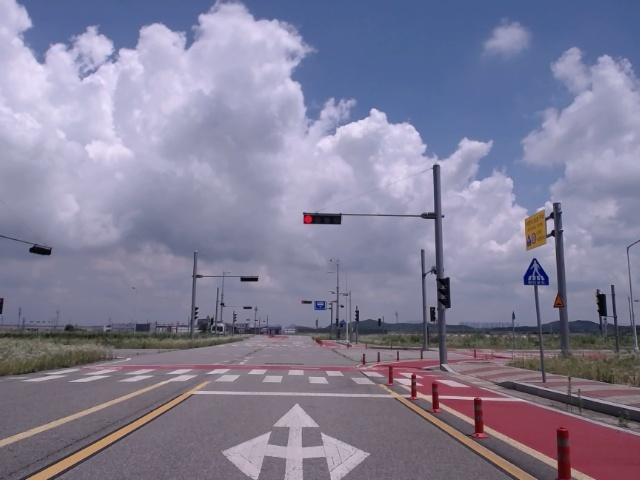red_4: (303, 213, 341, 225)
